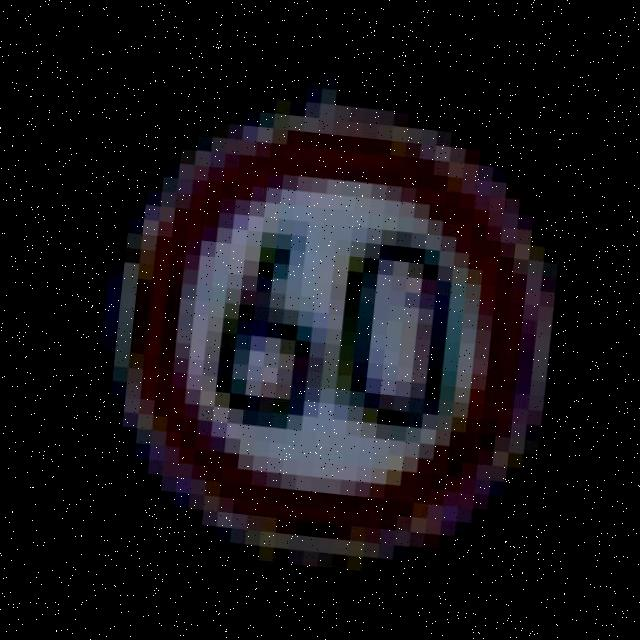Ograniczenie predkosci do 60: (10, 38, 640, 630)
